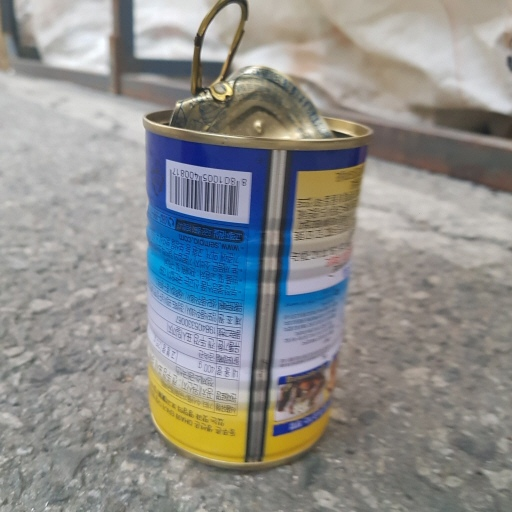Metal_1: (143, 1, 374, 471)
